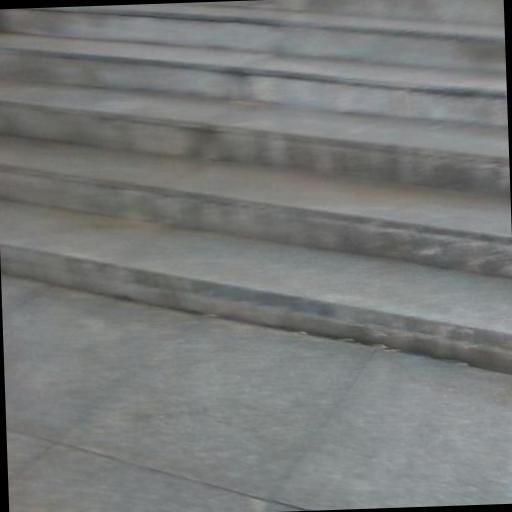stairs: (0, 0, 511, 373)
